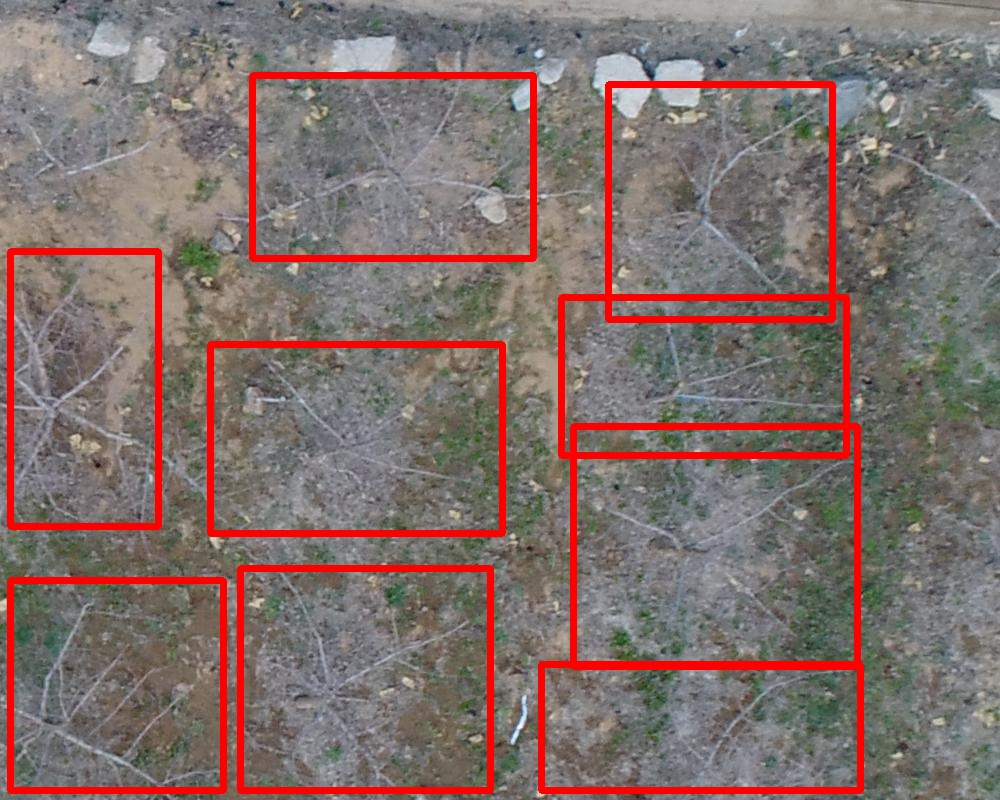apple: (573, 426, 857, 666), (240, 568, 490, 790), (210, 344, 502, 533), (608, 84, 832, 319), (252, 75, 533, 258), (561, 297, 846, 455), (10, 580, 223, 790), (10, 251, 158, 526), (541, 664, 860, 790)
